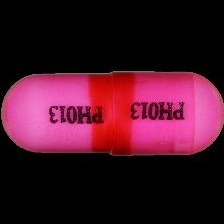66267-081: (0, 0, 224, 224)
